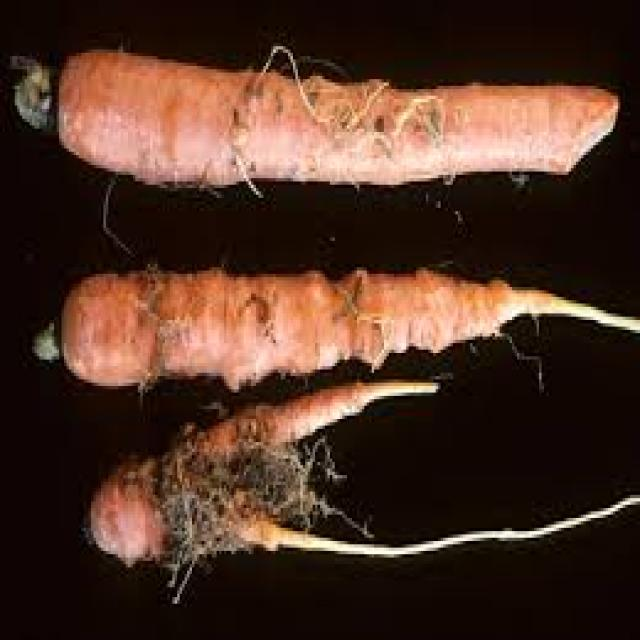Stale_Carrot: (91, 382, 436, 602), (58, 52, 619, 185), (62, 270, 640, 389)
